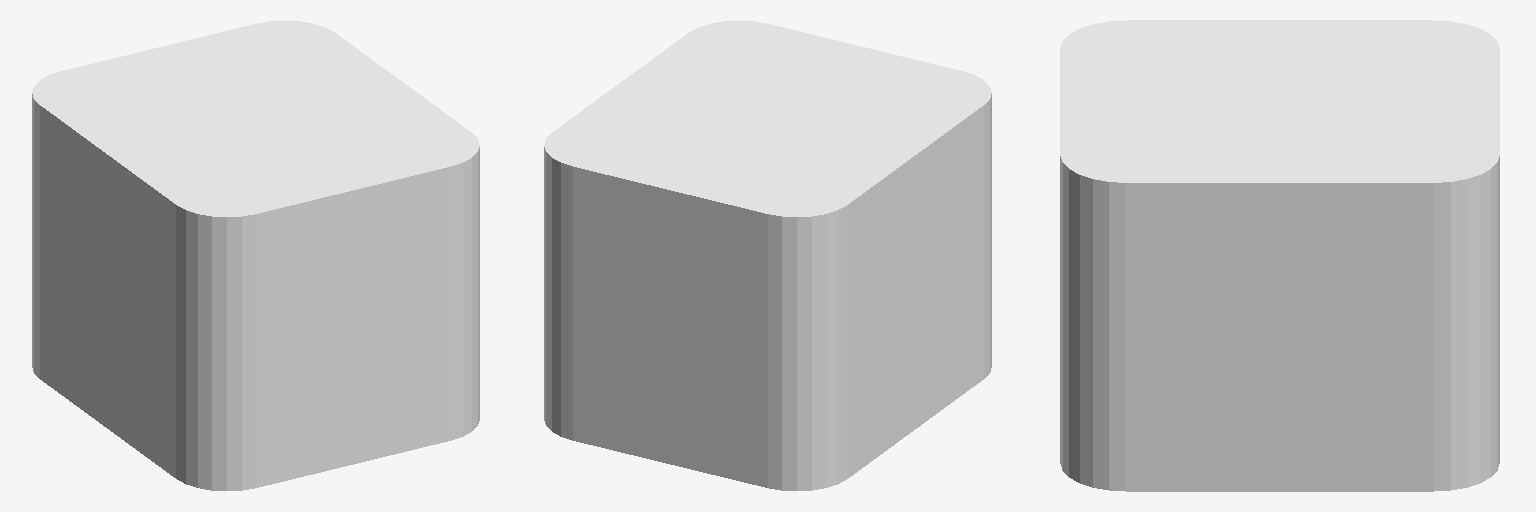
robot.urdf — edubot:
<?xml version="1.0" encoding="utf-8"?>
<robot
    name="edubot">

    <link
        name="base_footprint">
        <visual>
            <origin
                xyz="0 0 0"
                rpy="0 0 0" />
            <geometry>
                <mesh
                    filename="package://edubot/meshes/base_footprint.STL" />
            </geometry>
            <material
                name="">
                <color
                    rgba="1 1 1 0.2" />
            </material>
        </visual>
        <collision>
            <origin
                xyz="0 0 0"
                rpy="0 0 0" />
            <geometry>
                <mesh
                    filename="package://edubot/meshes/base_footprint.STL" />
            </geometry>
        </collision>
    </link>

    <link
        name="base_link">
        <inertial>
            <origin
                xyz="-0.10802 0.0012256 0.12645"
                rpy="0 0 0" />
            <mass
                value="4.3773" />
            <inertia
                ixx="0.029669"
                ixy="-4.7962E-06"
                ixz="-3.3935E-07"
                iyy="0.015653"
                iyz="-4.7932E-06"
                izz="0.043804" />
        </inertial>
        <visual>
            <origin
                xyz="0 0 0"
                rpy="0 0 0" />
            <geometry>
                <mesh
                    filename="package://edubot/meshes/base_link.STL" />
            </geometry>
            <material
                name="">
                <color
                    rgba="0.5 0.5 0.5 1" />
            </material>
        </visual>
    </link>

    <joint
        name="base_footprint_to_base_link"
        type="fixed">
        <origin
            xyz="0.11 0 0.0508"
            rpy="0 0 0" />
        <parent
            link="base_footprint" />
        <child
            link="base_link" />
        <axis
            xyz="0 0 0" />
    </joint>

    <link
        name="left_wheel_link">
        <inertial>
            <origin
                xyz="-1.173E-16 4.5594E-14 1.249E-15"
                rpy="0 0 0" />
            <mass
                value="0.12617" />
            <inertia
                ixx="0.00011003"
                ixy="-3.6189E-23"
                ixz="7.3178E-20"
                iyy="0.00011003"
                iyz="2.6942E-19"
                izz="0.00021019" />
        </inertial>
        <visual>
            <origin
                xyz="0 0 0"
                rpy="0 0 0" />
            <geometry>
                <mesh
                    filename="package://edubot/meshes/left_wheel_link.STL" />
            </geometry>
            <material
                name="">
                <color
                    rgba="0.4 0 0 1" />
            </material>
        </visual>
    </link>

    <joint
        name="left_wheel_joint"
        type="continuous">
        <origin
            xyz="0 0.14318 0"
            rpy="1.5708 0 0" />
        <parent
            link="base_link" />
        <child
            link="left_wheel_link" />
        <axis
            xyz="0 0 -1" />
        <limit
            effort="5"
            velocity="4" />
        <dynamics
            damping="0.1"
            friction="0.1" />
    </joint>

    <link
        name="right_wheel_link">
        <inertial>
            <origin
                xyz="-1.1645E-16 4.5594E-14 -1.2768E-15"
                rpy="0 0 0" />
            <mass
                value="0.12617" />
            <inertia
                ixx="0.00011003"
                ixy="3.7999E-22"
                ixz="-2.4127E-20"
                iyy="0.00011003"
                iyz="-2.907E-19"
                izz="0.00021019" />
        </inertial>
        <visual>
            <origin
                xyz="0 0 0"
                rpy="0 0 0" />
            <geometry>
                <mesh
                    filename="package://edubot/meshes/right_wheel_link.STL" />
            </geometry>
            <material
                name="">
                <color
                    rgba="0.4 0 0 1" />
            </material>
        </visual>
    </link>

    <joint
        name="right_wheel_joint"
        type="continuous">
        <origin
            xyz="0 -0.14318 0"
            rpy="1.5708 0 0" />
        <parent
            link="base_link" />
        <child
            link="right_wheel_link" />
        <axis
            xyz="0 0 1" />
        <limit
            effort="5"
            velocity="4" />
        <dynamics
            damping="0.1"
            friction="0.1" />
    </joint>

    <link
        name="caster_sphere_link">
        <inertial>
            <origin
                xyz="1.2021E-17 0 2.7756E-17"
                rpy="0 0 0" />
            <mass
                value="0.7676" />
            <inertia
                ixx="0.00099058"
                ixy="0"
                ixz="1.7632E-35"
                iyy="0.00099058"
                iyz="0"
                izz="0.00099058" />
        </inertial>
        <visual>
            <origin
                xyz="0 0 0"
                rpy="0 0 0" />
            <geometry>
                <mesh
                    filename="package://edubot/meshes/caster_sphere_link.STL" />
            </geometry>
            <material
                name="">
                <color
                    rgba="0.3 0 0 0.4" />
            </material>
        </visual>
    </link>

    <joint
        name="caster_sphere_joint"
        type="fixed">
        <origin
            xyz="-0.21791 0 0.006"
            rpy="1.5708 0 1.5708" />
        <parent
            link="base_link" />
        <child
            link="caster_sphere_link" />
        <axis
            xyz="0 0 -1" />
    </joint>

    <link
        name="lidar_link">
        <inertial>
            <origin
                xyz="-0.010595 1.1877E-07 -0.014878"
                rpy="0 0 0" />
            <mass
                value="0.22026" />
            <inertia
                ixx="0.00014659"
                ixy="1.0374E-09"
                ixz="-9.1899E-06"
                iyy="0.00018215"
                iyz="2.0782E-10"
                izz="0.00030242" />
        </inertial>
        <visual>
            <origin
                xyz="0 0 0"
                rpy="0 0 0" />
            <geometry>
                <mesh
                    filename="package://edubot/meshes/lidar_link.STL" />
            </geometry>
            <material
                name="">
                <color
                    rgba="0.05 0.05 0.05 1" />
            </material>
        </visual>
    </link>

    <joint
        name="lidar_joint"
        type="fixed">
        <origin
            xyz="0.00034222 0 0.2401"
            rpy="0 0 0" />
        <parent
            link="base_link" />
        <child
            link="lidar_link" />
        <axis
            xyz="0 0 0" />
    </joint>

    <link
        name="camera_link">
        <inertial>
            <origin
                xyz="-9.8891E-10 -1.0917E-10 0.00080356"
                rpy="0 0 0" />
            <mass
                value="0.047333" />
            <inertia
                ixx="4.1421E-06"
                ixy="-7.853E-13"
                ixz="4.8356E-13"
                iyy="3.9805E-05"
                iyz="5.5377E-14"
                izz="4.136E-05" />
        </inertial>
        <visual>
            <origin
                xyz="0 0 0"
                rpy="0 0 0" />
            <geometry>
                <mesh
                    filename="package://edubot/meshes/camera_link.STL" />
            </geometry>
            <material
                name="">
                <color
                    rgba="0.05 0.05 0.05 1" />
            </material>
        </visual>
    </link>

    <joint
        name="camera_joint"
        type="fixed">
        <origin
            xyz="0.031446 0 0.17538"
            rpy="-2.2747 0 -1.5708" />
        <parent
            link="base_link" />
        <child
            link="camera_link" />
        <axis
            xyz="0 0 0" />
    </joint>

    <link
        name="imu_link">
        <inertial>
            <origin
                xyz="-7.4342E-07 -0.0075587 -0.00038469"
                rpy="0 0 0" />
            <mass
                value="0.020793" />
            <inertia
                ixx="1.2421E-05"
                ixy="1.092E-11"
                ixz="1.0489E-15"
                iyy="2.372E-06"
                iyz="3.6838E-08"
                izz="1.4168E-05" />
        </inertial>
        <visual>
            <origin
                xyz="0 0 0"
                rpy="0 0 0" />
            <geometry>
                <mesh
                    filename="package://edubot/meshes/imu_link.STL" />
            </geometry>
            <material
                name="">
                <color
                    rgba="0.05 0.05 0.05 1" />
            </material>
        </visual>
    </link>

    <joint
        name="imu_joint"
        type="fixed">
        <origin
            xyz="0.037942 0 0.0949"
            rpy="0 0 0" />
        <parent
            link="base_link" />
        <child
            link="imu_link" />
        <axis
            xyz="0 0 0" />
    </joint>

</robot>

--- Render facts (derived) ---
The picture shows the robot from 3 angles, left to right: view 1: azimuth 30°, elevation 25°; view 2: azimuth 150°, elevation 25°; view 3: azimuth 270°, elevation 25°; orthographic projection.
Model edubot with 8 links and 7 joints (2 continuous, 5 fixed), rooted at base_footprint, posed every joint at zero.
Visible links, largest first — view 1: base_footprint; view 2: base_footprint; view 3: base_footprint.
Boxes of the visible links, x1,y1,x2,y2 form: base_footprint: [32, 21, 479, 490]; base_footprint: [544, 21, 991, 490]; base_footprint: [1060, 20, 1499, 491].
Bounding box of the posed robot: 0.35 × 0.4 × 0.31 m (x, y, z).
7 mesh visuals loaded from 8 distinct referenced files (7 binary STL); not drawn: 1 (reference not matched to a file when rendering).